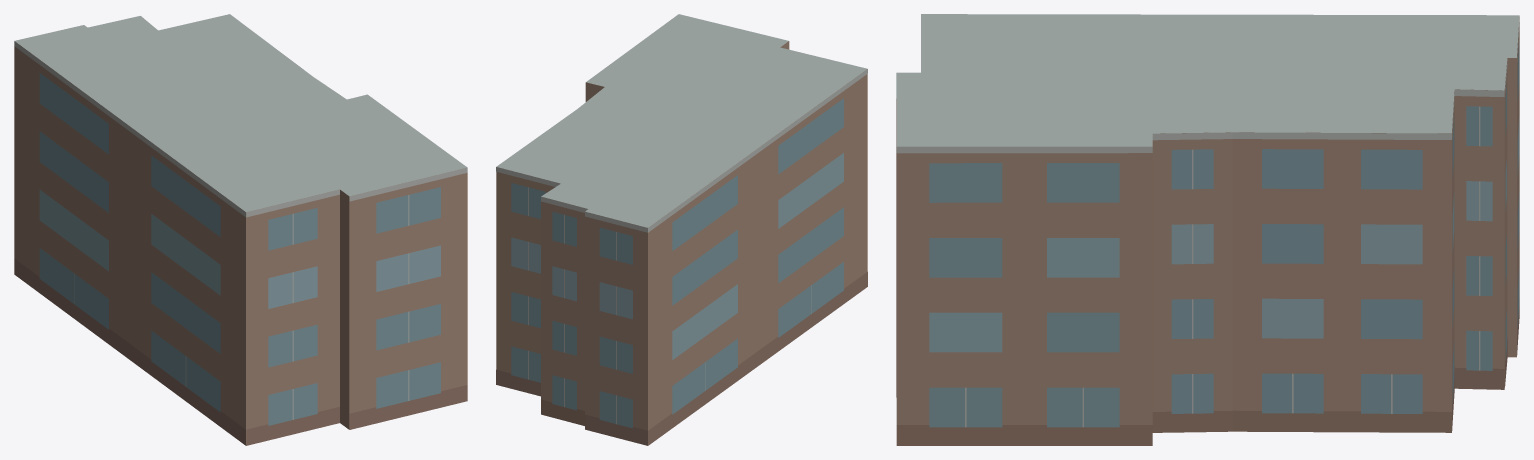
File: survey-upis-32660376.glb
The picture shows the model from 3 angles, left to right: view 1: azimuth 30°, elevation 25°; view 2: azimuth 150°, elevation 25°; view 3: azimuth 270°, elevation 25°; orthographic projection. The views are drawn at different scales.
Parts seen in each view (by area): view 1: survey-upis-32660376.tmp; view 2: survey-upis-32660376.tmp; view 3: survey-upis-32660376.tmp.
Part boxes in pixels (left/top/right/bottom): survey-upis-32660376.tmp: left=14, top=14, right=467, bottom=445; survey-upis-32660376.tmp: left=496, top=14, right=867, bottom=445; survey-upis-32660376.tmp: left=896, top=14, right=1519, bottom=445.
Size of the model in its own units: 10.42 by 10.96 by 20.69.
